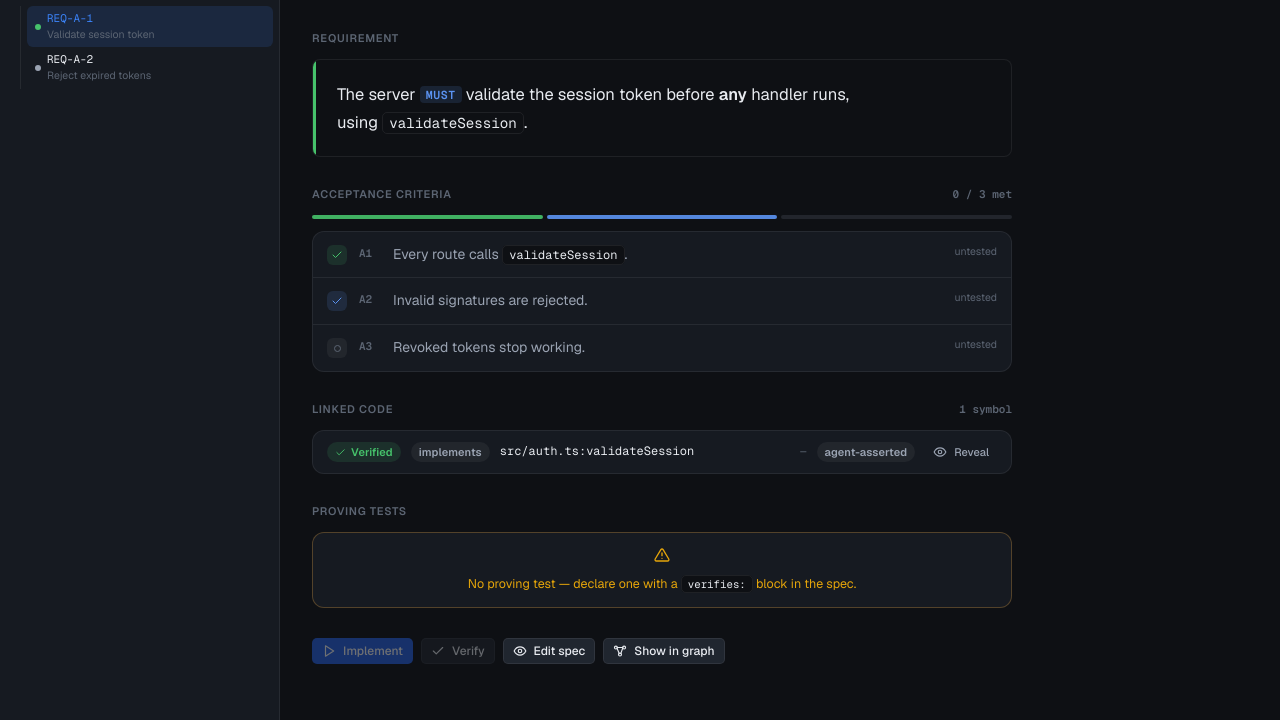
Test: SpecEditor (REQ-DESKTOP-006…011) › 006.A2/A4: Cancel restores the read view with persisted values, no PUT; re-edit reseeds
Click the button "Edit spec" at coordinates (549, 651), box [503,638,595,664]
(page scrolled)
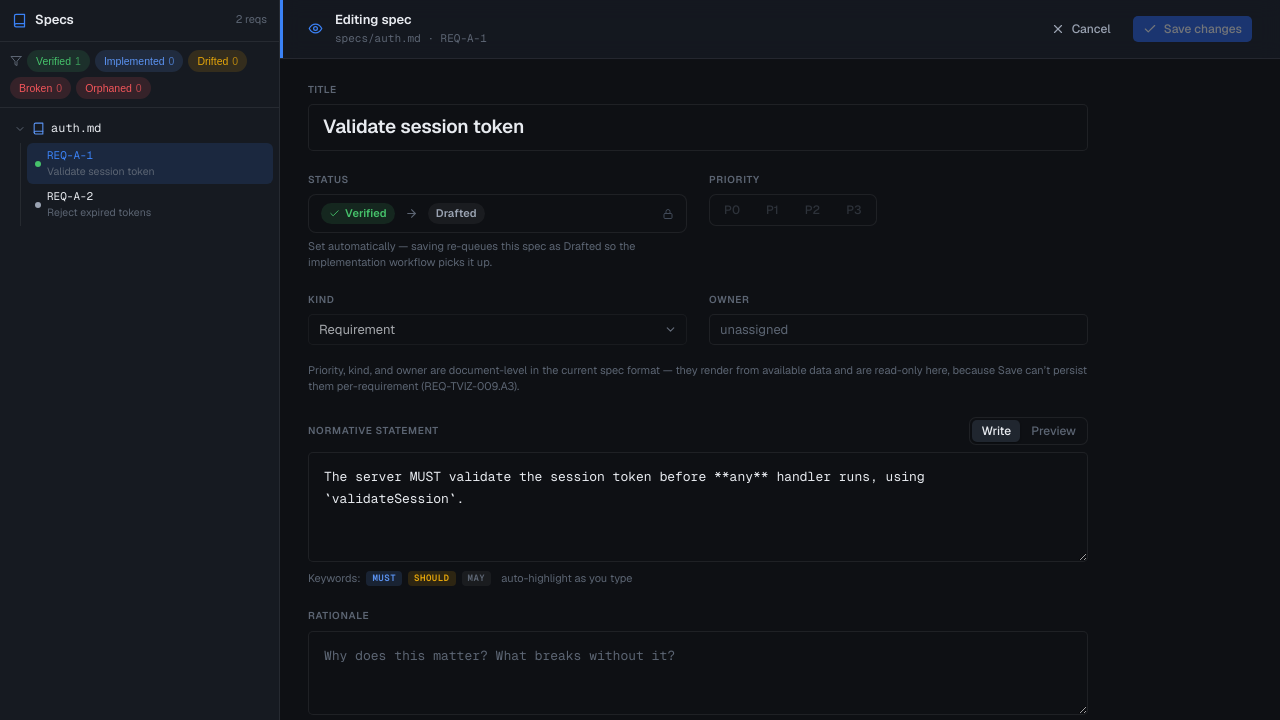
Replace the text in the field named "title" with "Discarded draft title" at coordinates (698, 128), box [308,104,1088,151]
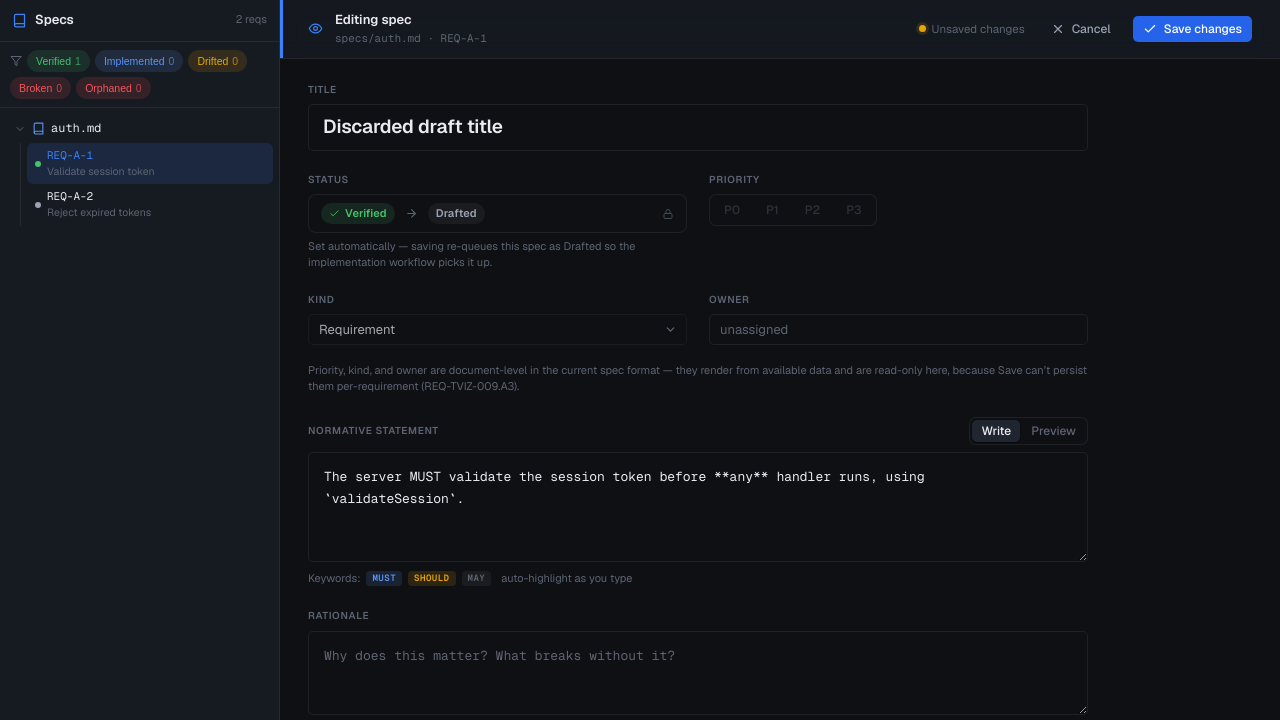
Click the button "Cancel" at coordinates (1081, 29), box [1041,16,1121,42]
(page scrolled)
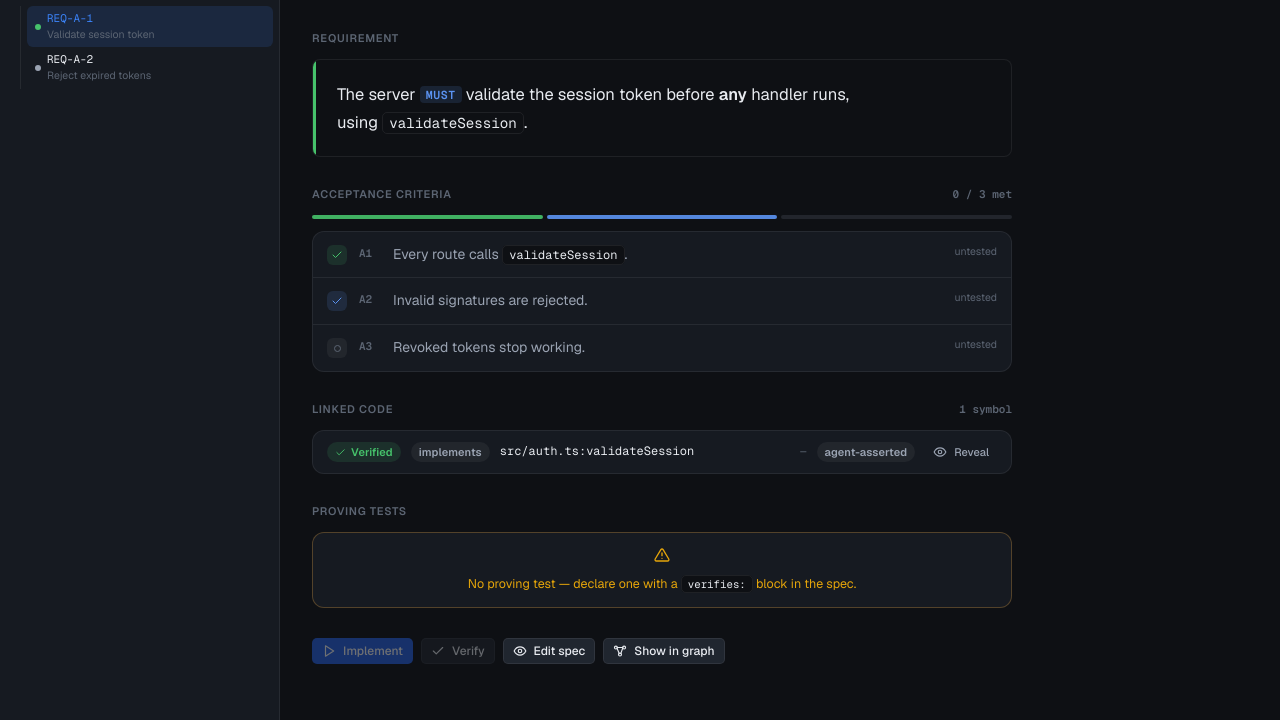
Click the button "Edit spec" at coordinates (549, 651), box [503,638,595,664]
(page scrolled)
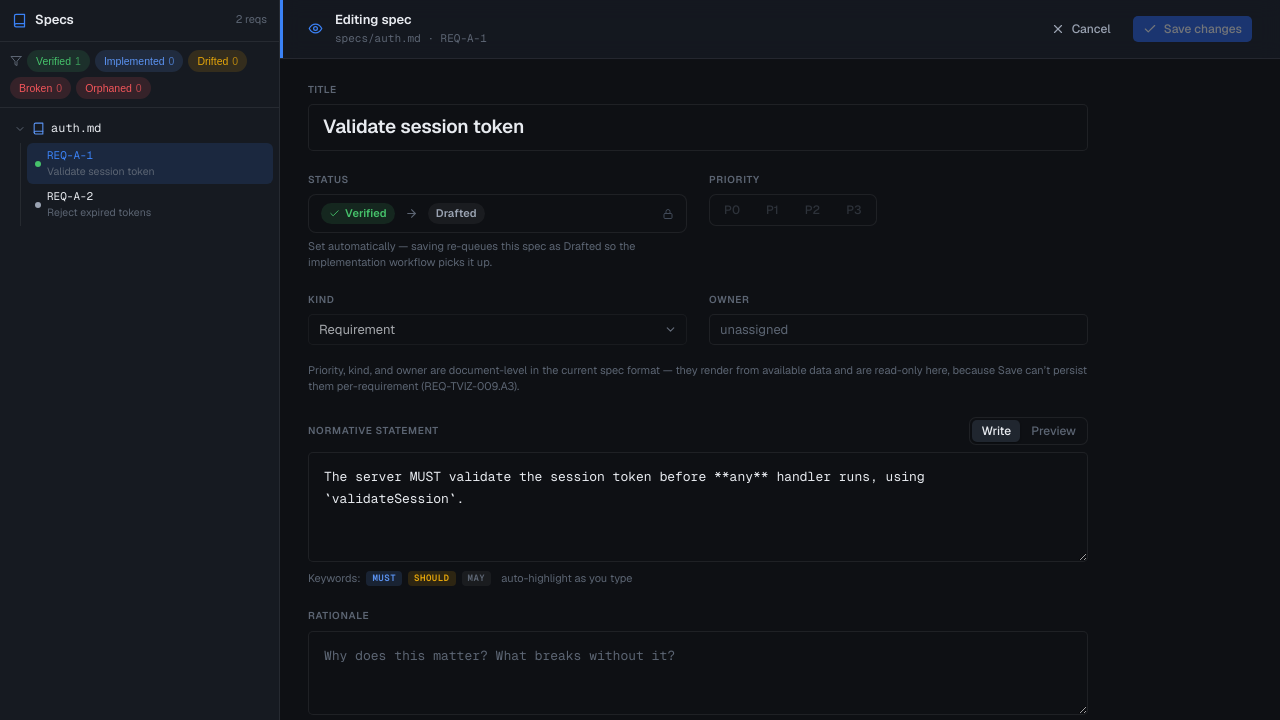
Now the field named "title" holds "Validate session token", box [308,104,1088,151]
